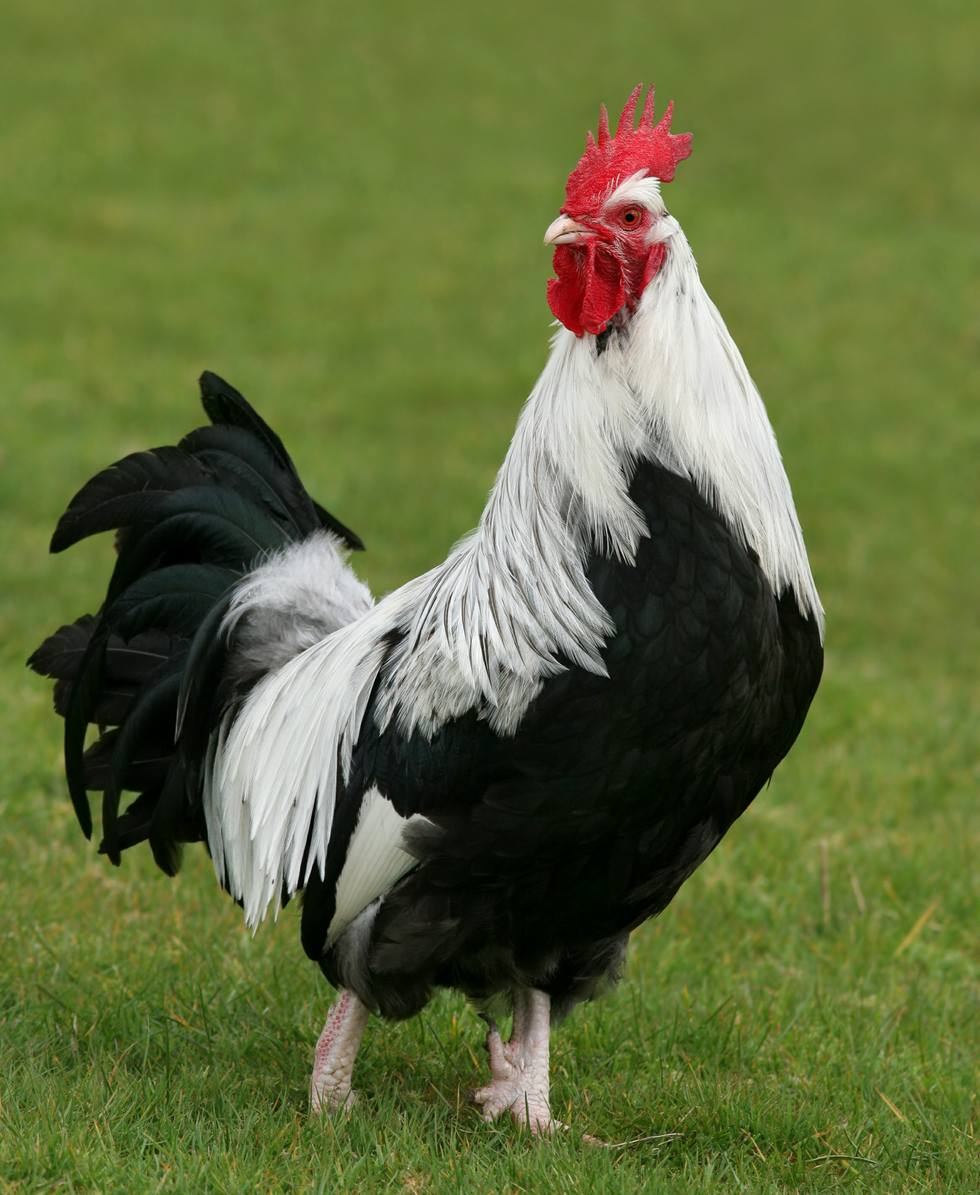Healthy: (53, 97, 801, 1117)
